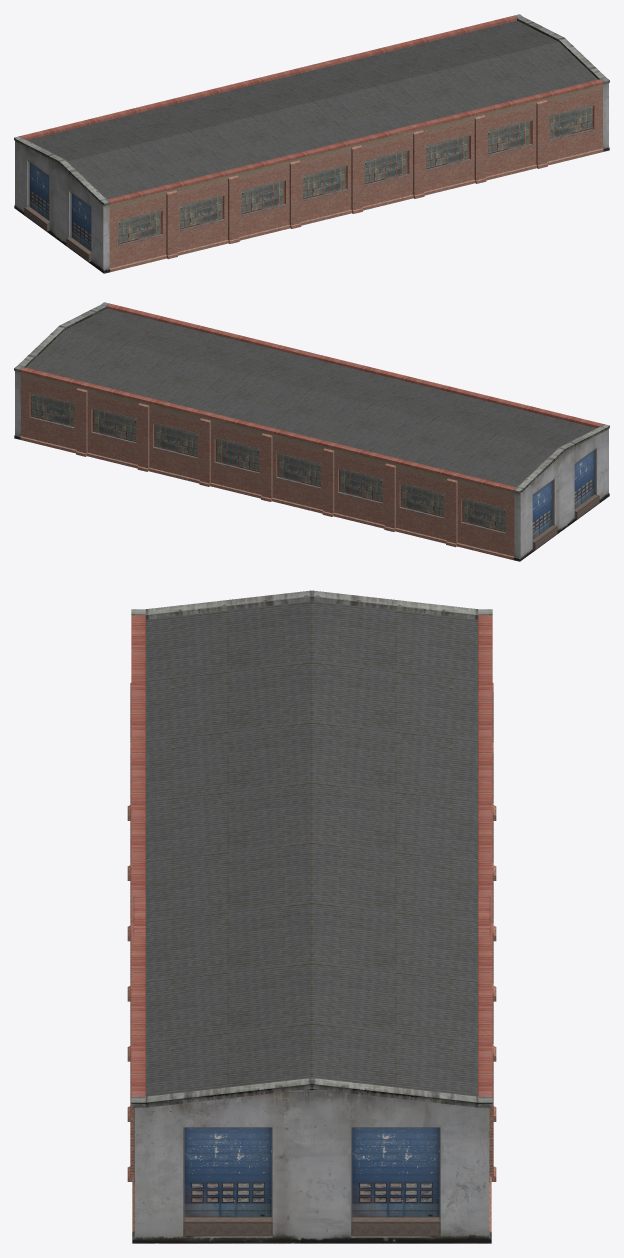
Rendered from long_warehouse.glb.
3 renders of one model, top to bottom at view 1: azimuth 30°, elevation 25°; view 2: azimuth 150°, elevation 25°; view 3: azimuth 270°, elevation 25°, orthographic. The views are drawn at different scales.
Visible parts, largest first — view 1: parapet_atlas_B517_0, brick_Wall.002_main_Bricks_0, industrialWindow.002_industrialWindow_0, warehouse facade_facadeBare_0, rollUpDoor_rollUpDoor_0, decalMoss_decalMoss_0; view 2: parapet_atlas_B517_0, brick_Wall.002_main_Bricks_0, industrialWindow.002_industrialWindow_0, warehouse facade_facadeBare_0, rollUpDoor_rollUpDoor_0, decalMoss_decalMoss_0; view 3: parapet_atlas_B517_0, warehouse facade_facadeBare_0, rollUpDoor_rollUpDoor_0, brick_Wall.002_main_Bricks_0.
Boxes of the visible parts, x1,y1,x2,y2 form: parapet_atlas_B517_0: (14, 14, 609, 205); brick_Wall.002_main_Bricks_0: (109, 85, 603, 272); industrialWindow.002_industrialWindow_0: (118, 104, 594, 246); warehouse facade_facadeBare_0: (14, 83, 609, 273); rollUpDoor_rollUpDoor_0: (24, 160, 91, 261); decalMoss_decalMoss_0: (103, 83, 608, 209); parapet_atlas_B517_0: (14, 302, 609, 493); brick_Wall.002_main_Bricks_0: (20, 373, 514, 560); industrialWindow.002_industrialWindow_0: (29, 392, 505, 534); warehouse facade_facadeBare_0: (14, 371, 609, 561); rollUpDoor_rollUpDoor_0: (532, 448, 599, 549); decalMoss_decalMoss_0: (15, 371, 520, 497); parapet_atlas_B517_0: (131, 590, 492, 1107); warehouse facade_facadeBare_0: (132, 1089, 491, 1243); rollUpDoor_rollUpDoor_0: (183, 1127, 440, 1236); brick_Wall.002_main_Bricks_0: (127, 683, 496, 1231).
Size of the model in its own units: 33.06 by 4.95 by 10.38.
Materials: 6 (6 with a texture image).
